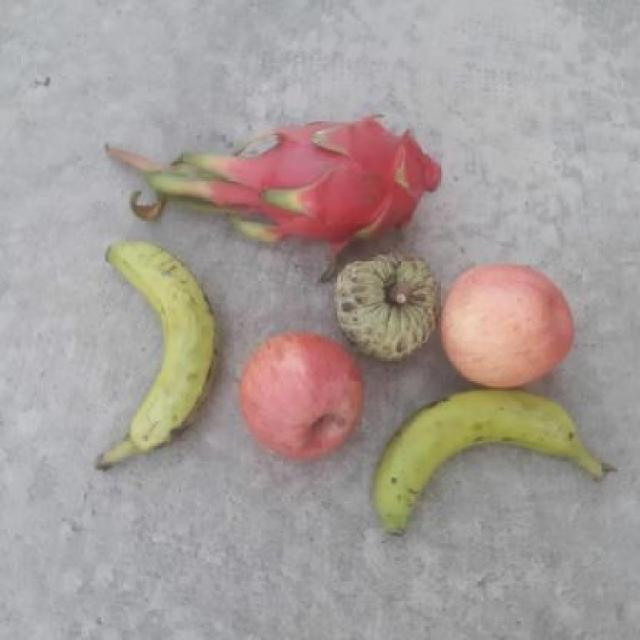apple: (442, 261, 580, 385), (248, 331, 364, 455)
banana: (68, 238, 225, 470), (369, 386, 589, 529)
dragon fruit: (230, 117, 445, 246)
sugar apple: (330, 246, 444, 366)
